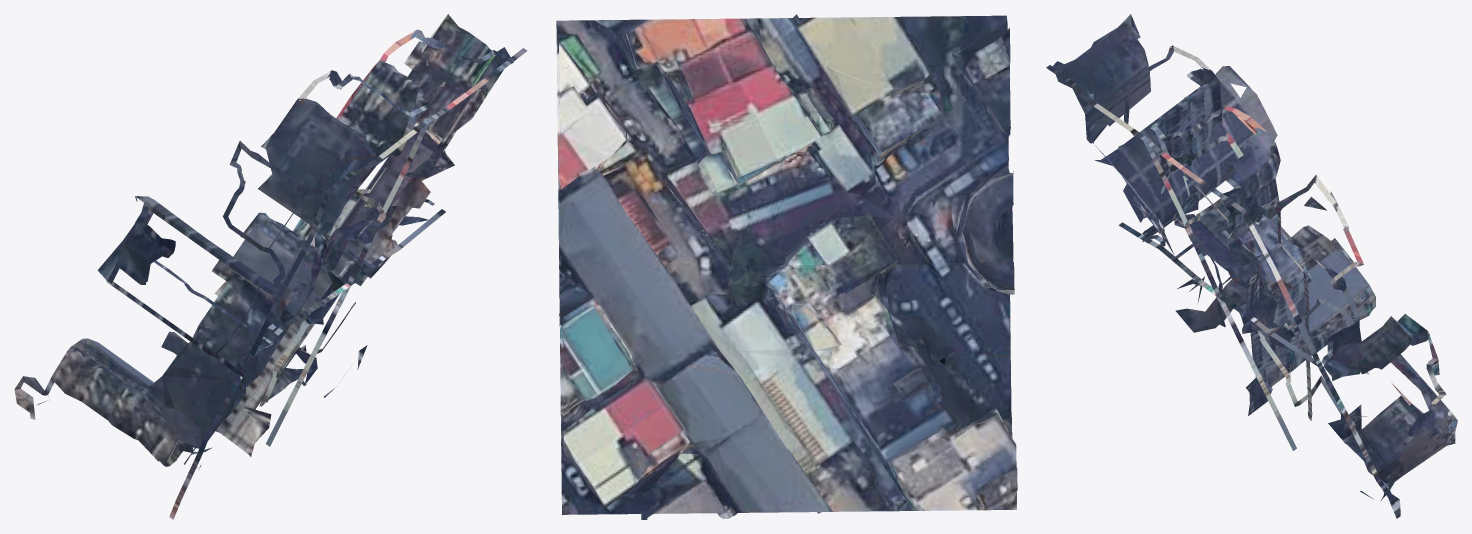
The picture shows the model from 3 angles, left to right: view 1: azimuth 30°, elevation 25°; view 2: azimuth 150°, elevation 25°; view 3: azimuth 270°, elevation 25°; orthographic projection. The views are drawn at different scales.
Size of the model in its own units: 92.52 by 77.59 by 73.89.
2 materials, 2 textured.
